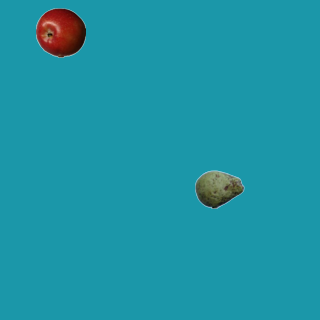Apple Braeburn: (35, 7, 85, 57)
Pear Stone: (194, 164, 244, 214)
